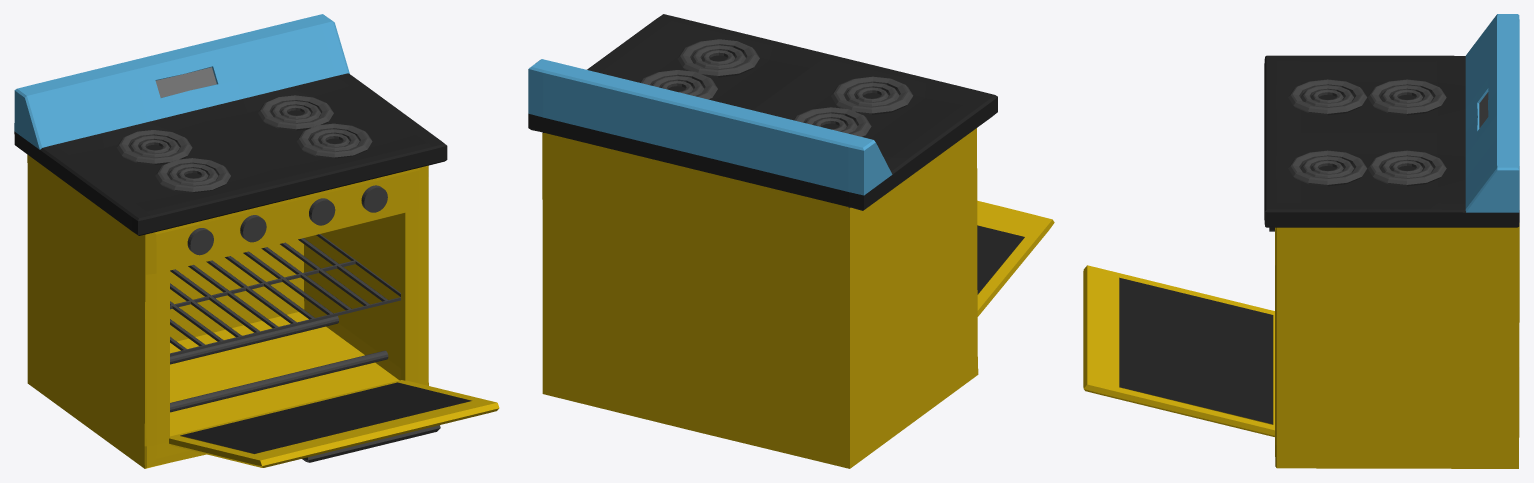
File: LudumDareOvenOpen 1.fbx
3 renders of one model, left to right at view 1: azimuth 30°, elevation 25°; view 2: azimuth 150°, elevation 25°; view 3: azimuth 270°, elevation 25°, orthographic. The views are drawn at different scales.
Parts seen in each view (by area): view 1: Open Oven, Open Oven.005, Open Oven.006, Open Oven.011, Open Oven.001, Open Oven Tray, Open Oven.010, Open Oven.003, Open Oven.002, Open Oven.007, Open Oven.008; view 2: Open Oven, Open Oven.005, Open Oven.006, Open Oven.001, Open Oven.010, Open Oven.011; view 3: Open Oven, Open Oven.005, Open Oven.011, Open Oven.006, Open Oven.001, Open Oven.010.
Part boxes in pixels (<box>): Open Oven: <box>27,154,428,468</box>; Open Oven.005: <box>14,73,447,235</box>; Open Oven.006: <box>14,14,349,149</box>; Open Oven.011: <box>180,382,471,453</box>; Open Oven.001: <box>116,95,372,192</box>; Open Oven Tray: <box>170,234,400,356</box>; Open Oven.010: <box>169,380,499,467</box>; Open Oven.003: <box>170,316,388,412</box>; Open Oven.002: <box>187,185,387,255</box>; Open Oven.007: <box>155,67,216,97</box>; Open Oven.008: <box>302,425,440,462</box>; Open Oven: <box>542,128,978,468</box>; Open Oven.005: <box>528,14,997,210</box>; Open Oven.006: <box>528,59,892,195</box>; Open Oven.001: <box>640,39,913,137</box>; Open Oven.010: <box>977,200,1054,316</box>; Open Oven.011: <box>977,225,1024,294</box>; Open Oven: <box>1275,223,1519,468</box>; Open Oven.005: <box>1264,55,1519,227</box>; Open Oven.011: <box>1119,277,1273,424</box>; Open Oven.006: <box>1465,14,1519,212</box>; Open Oven.001: <box>1288,79,1446,186</box>; Open Oven.010: <box>1083,265,1274,436</box>.
Bounding box in the file's own units: 106 × 97.79 × 126.
